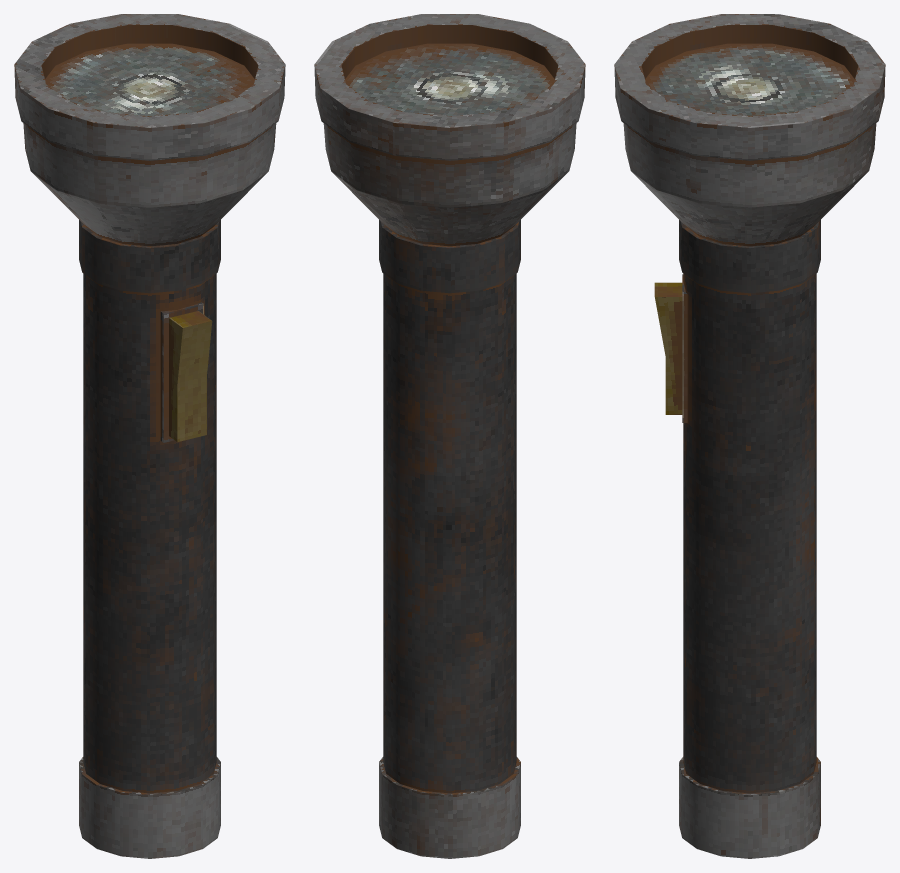
The model's file is FlashLight_Set_2_1.glb.
3 views of the same model, side by side, from view 1: azimuth 30°, elevation 25°; view 2: azimuth 150°, elevation 25°; view 3: azimuth 270°, elevation 25° (orthographic).
Parts seen in each view (by area): view 1: FlashLight_Set_2_1; view 2: FlashLight_Set_2_1; view 3: FlashLight_Set_2_1.
Part boxes in pixels (x1,y1,x2,y2): FlashLight_Set_2_1: (14,14,285,858); FlashLight_Set_2_1: (314,14,585,858); FlashLight_Set_2_1: (614,14,885,858).
Size of the model in its own units: 0.0657 by 0.204 by 0.0661.
Materials: 1 (1 with a texture image).
